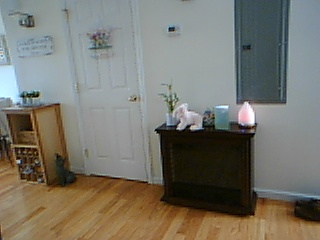piggy: (171, 102, 205, 132)
